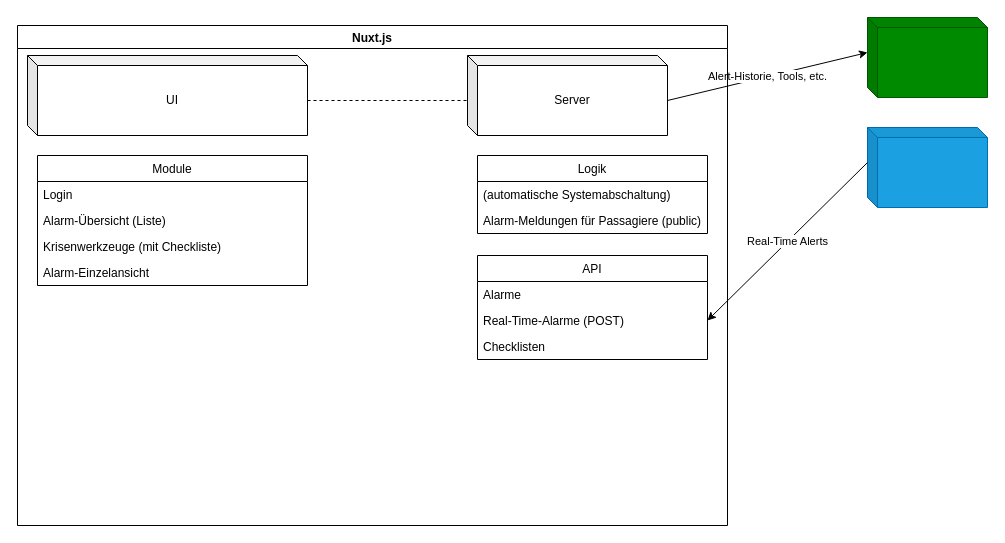
The diagram is 1005 pixels wide and 543 high, and some of its shapes have lost their labels. The shapes that lost their labels are listed below. From the top down, each one's box as (x1, y1, x2, y2) in pixels, then its label:
(866, 16, 988, 98): DB
(866, 126, 988, 208): Analyse
